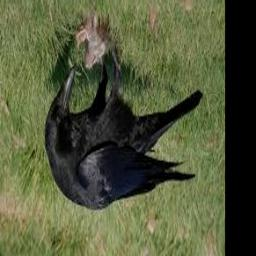Crow: (46, 44, 202, 211)
